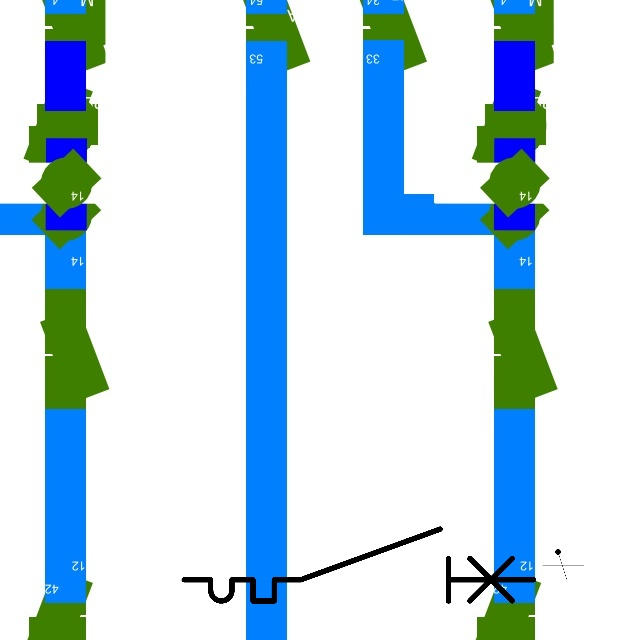interruptor_termomagnetico: (175, 520, 542, 610)
